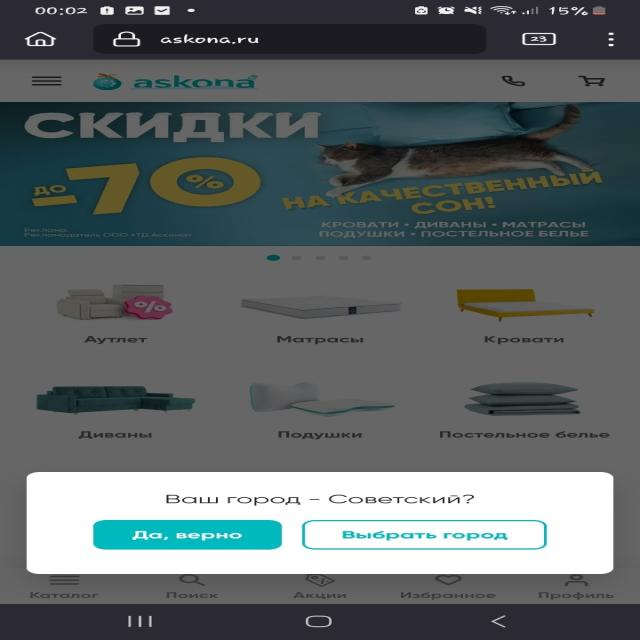button: (304, 519, 549, 550), (96, 520, 282, 550)
site: (27, 473, 611, 576)
